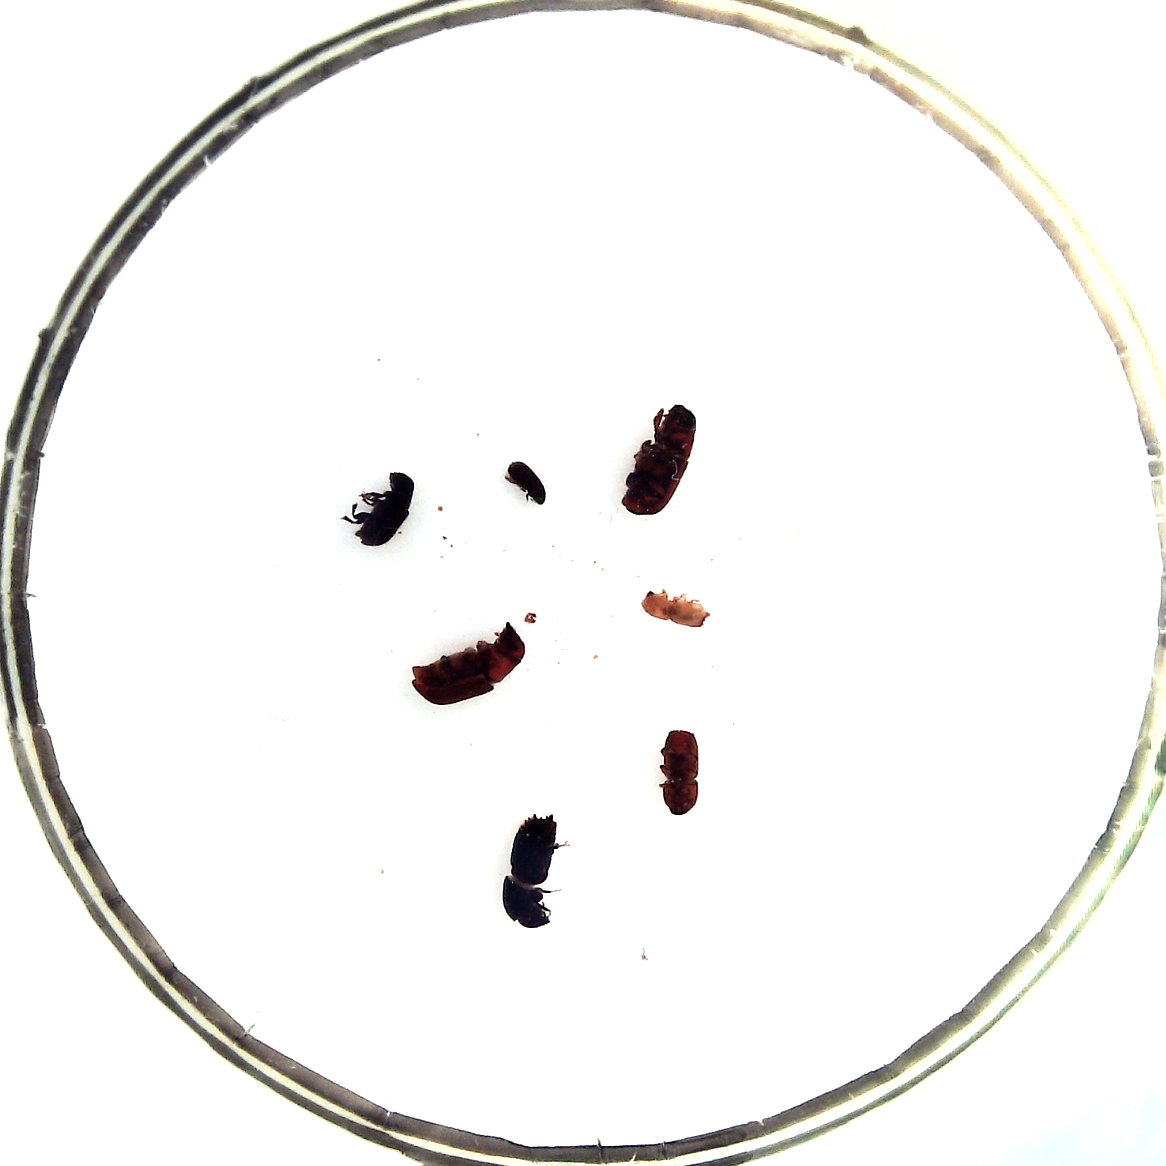Boerner: (503, 813, 557, 929)
Leconte: (412, 621, 526, 705), (621, 404, 696, 516)
acuminatus: (508, 461, 545, 505)
armandi: (356, 473, 415, 547)
coleoptera: (641, 590, 709, 628)
linnaeus: (658, 730, 698, 815)
